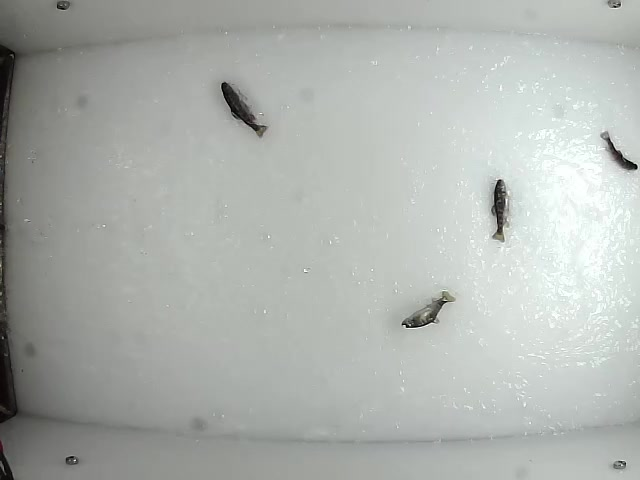fish: (220, 81, 270, 141), (400, 289, 455, 328), (597, 131, 638, 172), (488, 178, 510, 244)
